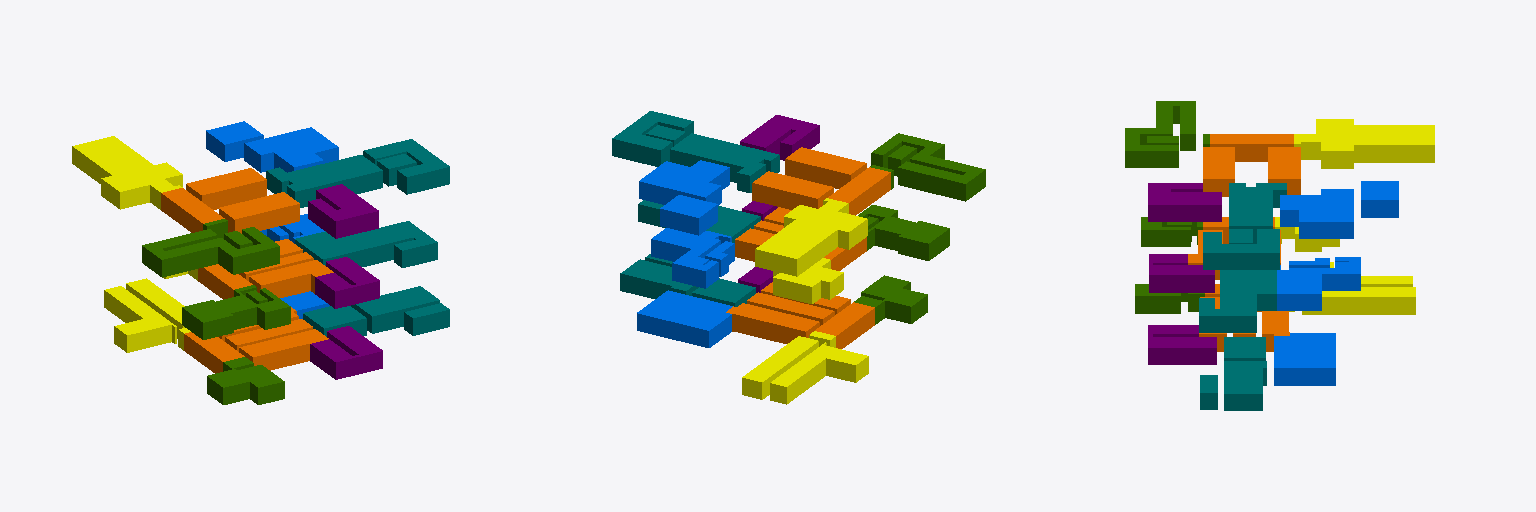
The model's file is allfloors3.obj.
3 renders of one model, left to right at view 1: azimuth 30°, elevation 25°; view 2: azimuth 150°, elevation 25°; view 3: azimuth 270°, elevation 25°, orthographic.
Visible parts, largest first — view 1: 1stfloor-3D__new_-COM-BlockC_1-11850-Material3, 1stfloor-3D__new_-COM-BlockB-1_2-12826-Material1, 1stfloor-3D__new_-COM-BlockE-8159-Material4, 1stfloor-3D__new_-COM-BlockB-1_1-7685-Material1, 1stfloor-3D__new_-COM-BlockE-1_1-12560-Material4, 1stfloor-3D__new_-COM-BlockD-2_1-12706-Material6, 1stfloor-3D__new_-COM-BlockC-1-2815-Material3, 1stfloor-3D__new_-COM-BlockF-2811-Material5, 1stfloor-3D__new_-COM-BlockB-1-2809-Material1, 1stfloor-3D__new_-COM-BlockF_2-12440-Material5, 1stfloor-3D__new_-COM-BlockE-2_1-12252-Material4, 1stfloor-3D__new_-COM-BlockF_1-8697-Material5 (+16 smaller); view 2: 1stfloor-3D__new_-COM-BlockC_1-11850-Material3, 1stfloor-3D__new_-COM-BlockB-1_2-12826-Material1, 1stfloor-3D__new_-COM-BlockD-2812-Material6, 1stfloor-3D__new_-COM-BlockE-1_1-12560-Material4, 1stfloor-3D__new_-COM-BlockD-2_1-12706-Material6, 1stfloor-3D__new_-COM-BlockC-1-2815-Material3, 1stfloor-3D__new_-COM-BlockD-2-7935-Material6, 1stfloor-3D__new_-COM-BlockB-1_1-7685-Material1, 1stfloor-3D__new_-COM-BlockE-2_1-12252-Material4, 1stfloor-3D__new_-COM-BlockA-1-2807-Material2, 1stfloor-3D__new_-COM-BlockB-1-2809-Material1, 1stfloor-3D__new_-COM-BlockF_2-12440-Material5 (+15 smaller); view 3: 1stfloor-3D__new_-COM-BlockC_1-11850-Material3, 1stfloor-3D__new_-COM-BlockE-8159-Material4, 1stfloor-3D__new_-COM-BlockB-1_2-12826-Material1, 1stfloor-3D__new_-COM-BlockD-2812-Material6, 1stfloor-3D__new_-COM-BlockD-2_1-12706-Material6, 1stfloor-3D__new_-COM-BlockD-2-7935-Material6, 1stfloor-3D__new_-COM-BlockF_2-12440-Material5, 1stfloor-3D__new_-COM-BlockE-2_1-12252-Material4, 1stfloor-3D__new_-COM-BlockC-2-2817-Material3, 1stfloor-3D__new_-COM-BlockF-2811-Material5, 1stfloor-3D__new_-COM-BlockE-1_1-12560-Material4, 1stfloor-3D__new_-COM-BlockF_1-8697-Material5 (+12 smaller).
Boxes of the visible parts, box(x1,y1,x2,y2) form: 1stfloor-3D__new_-COM-BlockC_1-11850-Material3: box(72, 136, 182, 209); 1stfloor-3D__new_-COM-BlockB-1_2-12826-Material1: box(142, 227, 279, 277); 1stfloor-3D__new_-COM-BlockE-8159-Material4: box(295, 221, 437, 267); 1stfloor-3D__new_-COM-BlockB-1_1-7685-Material1: box(182, 285, 290, 339); 1stfloor-3D__new_-COM-BlockE-1_1-12560-Material4: box(266, 155, 382, 207); 1stfloor-3D__new_-COM-BlockD-2_1-12706-Material6: box(244, 127, 338, 172); 1stfloor-3D__new_-COM-BlockC-1-2815-Material3: box(104, 286, 176, 352); 1stfloor-3D__new_-COM-BlockF-2811-Material5: box(310, 326, 382, 379); 1stfloor-3D__new_-COM-BlockB-1-2809-Material1: box(207, 357, 284, 404); 1stfloor-3D__new_-COM-BlockF_2-12440-Material5: box(308, 184, 378, 238); 1stfloor-3D__new_-COM-BlockE-2_1-12252-Material4: box(363, 139, 449, 194); 1stfloor-3D__new_-COM-BlockF_1-8697-Material5: box(315, 257, 379, 308); 1stfloor-3D__new_-COM-BlockC_1-11850-Material3: box(755, 198, 867, 276); 1stfloor-3D__new_-COM-BlockB-1_2-12826-Material1: box(871, 133, 985, 201); 1stfloor-3D__new_-COM-BlockD-2812-Material6: box(637, 290, 732, 347); 1stfloor-3D__new_-COM-BlockE-1_1-12560-Material4: box(670, 133, 779, 192); 1stfloor-3D__new_-COM-BlockD-2_1-12706-Material6: box(639, 160, 729, 205); 1stfloor-3D__new_-COM-BlockC-1-2815-Material3: box(770, 342, 868, 404); 1stfloor-3D__new_-COM-BlockD-2-7935-Material6: box(651, 228, 731, 288); 1stfloor-3D__new_-COM-BlockB-1_1-7685-Material1: box(858, 205, 949, 260); 1stfloor-3D__new_-COM-BlockE-2_1-12252-Material4: box(612, 111, 693, 166); 1stfloor-3D__new_-COM-BlockA-1-2807-Material2: box(726, 303, 819, 343); 1stfloor-3D__new_-COM-BlockB-1-2809-Material1: box(854, 275, 927, 324); 1stfloor-3D__new_-COM-BlockF_2-12440-Material5: box(740, 115, 819, 160); 1stfloor-3D__new_-COM-BlockC_1-11850-Material3: box(1294, 119, 1434, 168); 1stfloor-3D__new_-COM-BlockE-8159-Material4: box(1199, 270, 1276, 332); 1stfloor-3D__new_-COM-BlockB-1_2-12826-Material1: box(1125, 101, 1195, 167); 1stfloor-3D__new_-COM-BlockD-2812-Material6: box(1274, 333, 1335, 385); 1stfloor-3D__new_-COM-BlockD-2_1-12706-Material6: box(1280, 189, 1353, 238); 1stfloor-3D__new_-COM-BlockD-2-7935-Material6: box(1277, 257, 1360, 310); 1stfloor-3D__new_-COM-BlockF_2-12440-Material5: box(1148, 183, 1221, 221); 1stfloor-3D__new_-COM-BlockE-2_1-12252-Material4: box(1203, 229, 1279, 269); 1stfloor-3D__new_-COM-BlockC-2-2817-Material3: box(1302, 287, 1415, 314); 1stfloor-3D__new_-COM-BlockF-2811-Material5: box(1148, 325, 1216, 364); 1stfloor-3D__new_-COM-BlockE-1_1-12560-Material4: box(1229, 183, 1286, 243); 1stfloor-3D__new_-COM-BlockF_1-8697-Material5: box(1149, 254, 1214, 292).
Bounding box in the file's own units: 3.78 × 1.84 × 3.25.